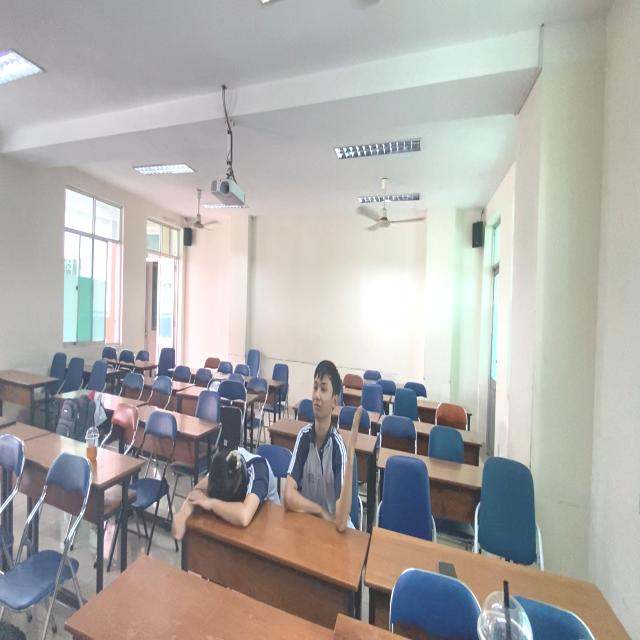raise_hand: (293, 355, 367, 534)
sleep: (183, 447, 279, 530)
